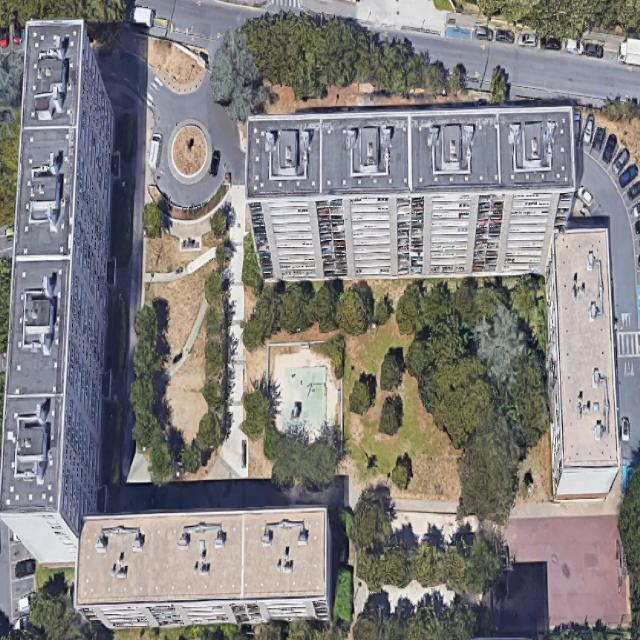immeuble: (0, 18, 117, 564), (244, 104, 578, 280), (73, 506, 334, 629), (542, 225, 622, 500)
